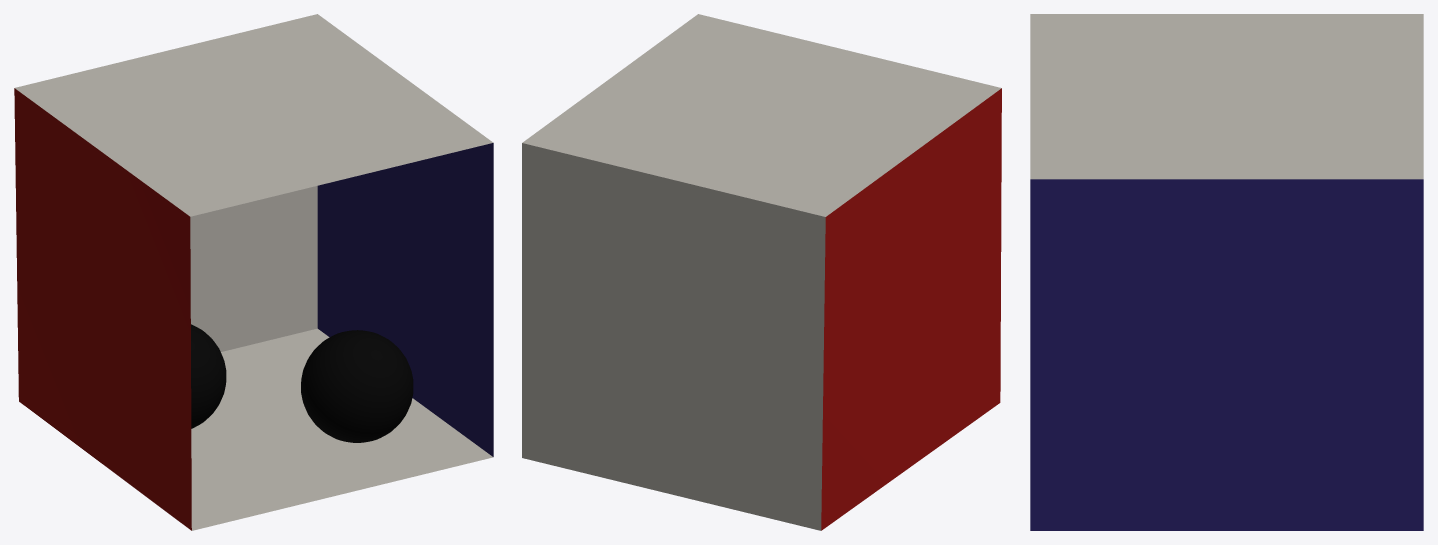
The model's file is Cornell_box_spheres_mirror.obj.
3 views of the same model, side by side, from view 1: azimuth 30°, elevation 25°; view 2: azimuth 150°, elevation 25°; view 3: azimuth 270°, elevation 25° (orthographic). The views are drawn at different scales.
Parts seen in each view (by area): view 1: CornellBox-Sphere_CornellBox-Sphere_leftWall, CornellBox-Sphere_CornellBox-Sphere_ceiling, CornellBox-Sphere_CornellBox-Sphere_rightWall, CornellBox-Sphere_CornellBox-Sphere_floor, CornellBox-Sphere_CornellBox-Sphere_backWall, CornellBox-Sphere_CornellBox-Sphere_rightSphere, CornellBox-Sphere_CornellBox-Sphere_leftSphere; view 2: CornellBox-Sphere_CornellBox-Sphere_backWall, CornellBox-Sphere_CornellBox-Sphere_leftWall, CornellBox-Sphere_CornellBox-Sphere_ceiling; view 3: CornellBox-Sphere_CornellBox-Sphere_rightWall, CornellBox-Sphere_CornellBox-Sphere_ceiling.
Boxes of the visible parts, bbox=[...] form: CornellBox-Sphere_CornellBox-Sphere_leftWall: bbox=[14, 88, 191, 530]; CornellBox-Sphere_CornellBox-Sphere_ceiling: bbox=[15, 14, 493, 216]; CornellBox-Sphere_CornellBox-Sphere_rightWall: bbox=[317, 143, 493, 456]; CornellBox-Sphere_CornellBox-Sphere_floor: bbox=[191, 328, 492, 530]; CornellBox-Sphere_CornellBox-Sphere_backWall: bbox=[190, 186, 317, 351]; CornellBox-Sphere_CornellBox-Sphere_rightSphere: bbox=[301, 330, 413, 442]; CornellBox-Sphere_CornellBox-Sphere_leftSphere: bbox=[191, 324, 226, 428]; CornellBox-Sphere_CornellBox-Sphere_backWall: bbox=[522, 143, 825, 530]; CornellBox-Sphere_CornellBox-Sphere_leftWall: bbox=[821, 88, 1001, 530]; CornellBox-Sphere_CornellBox-Sphere_ceiling: bbox=[522, 14, 1001, 216]; CornellBox-Sphere_CornellBox-Sphere_rightWall: bbox=[1030, 179, 1423, 530]; CornellBox-Sphere_CornellBox-Sphere_ceiling: bbox=[1030, 14, 1423, 179].
Bounding box in the file's own units: 2.02 × 2 × 2.03.
